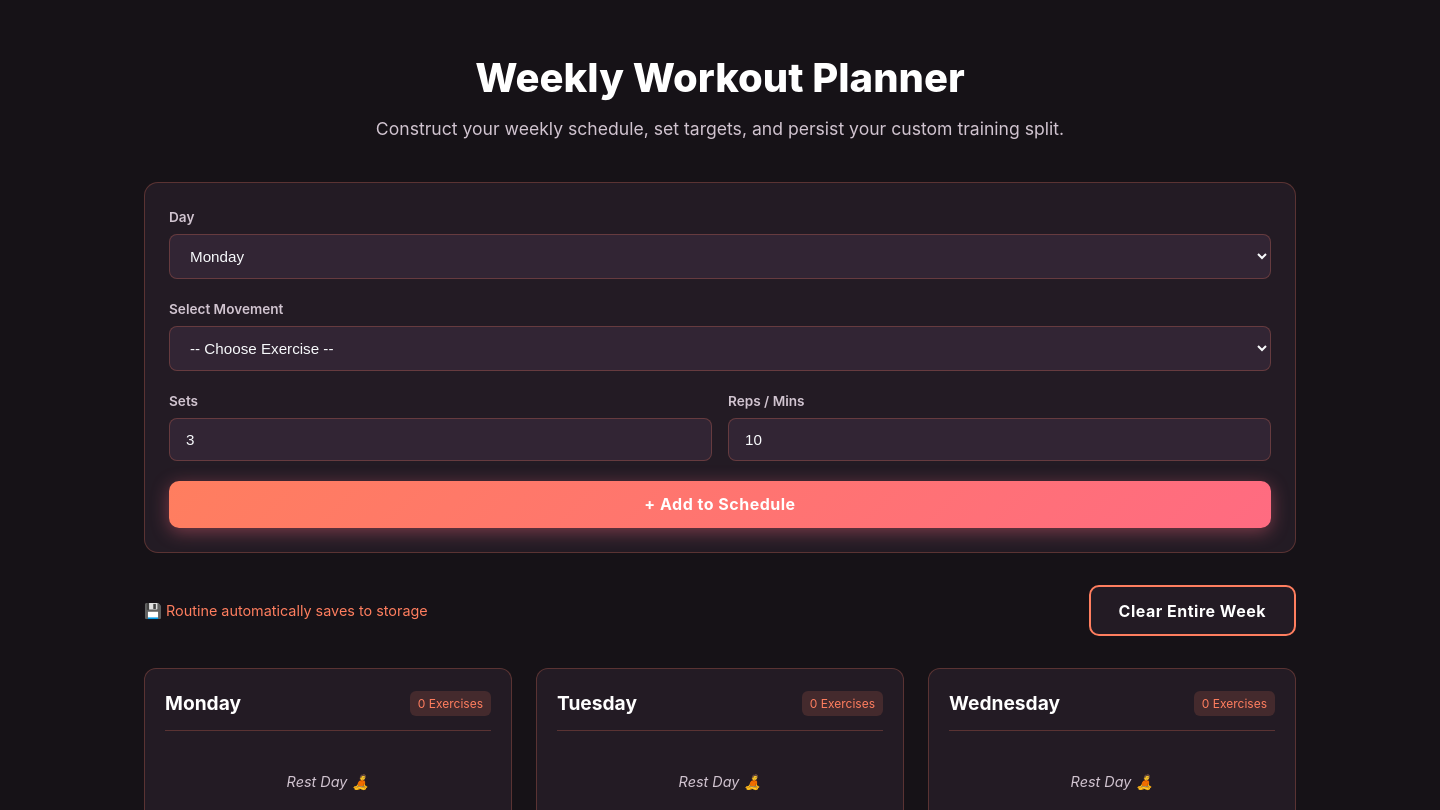
Test case: WorkoutPlanner Component › removes an exercise from a specific day
Note: Add exercise to Monday
Step 1. Select "Barbell Bench Press (strength)" in the dropdown labelled "Select Movement" → (720, 348), box [169,326,1271,371]
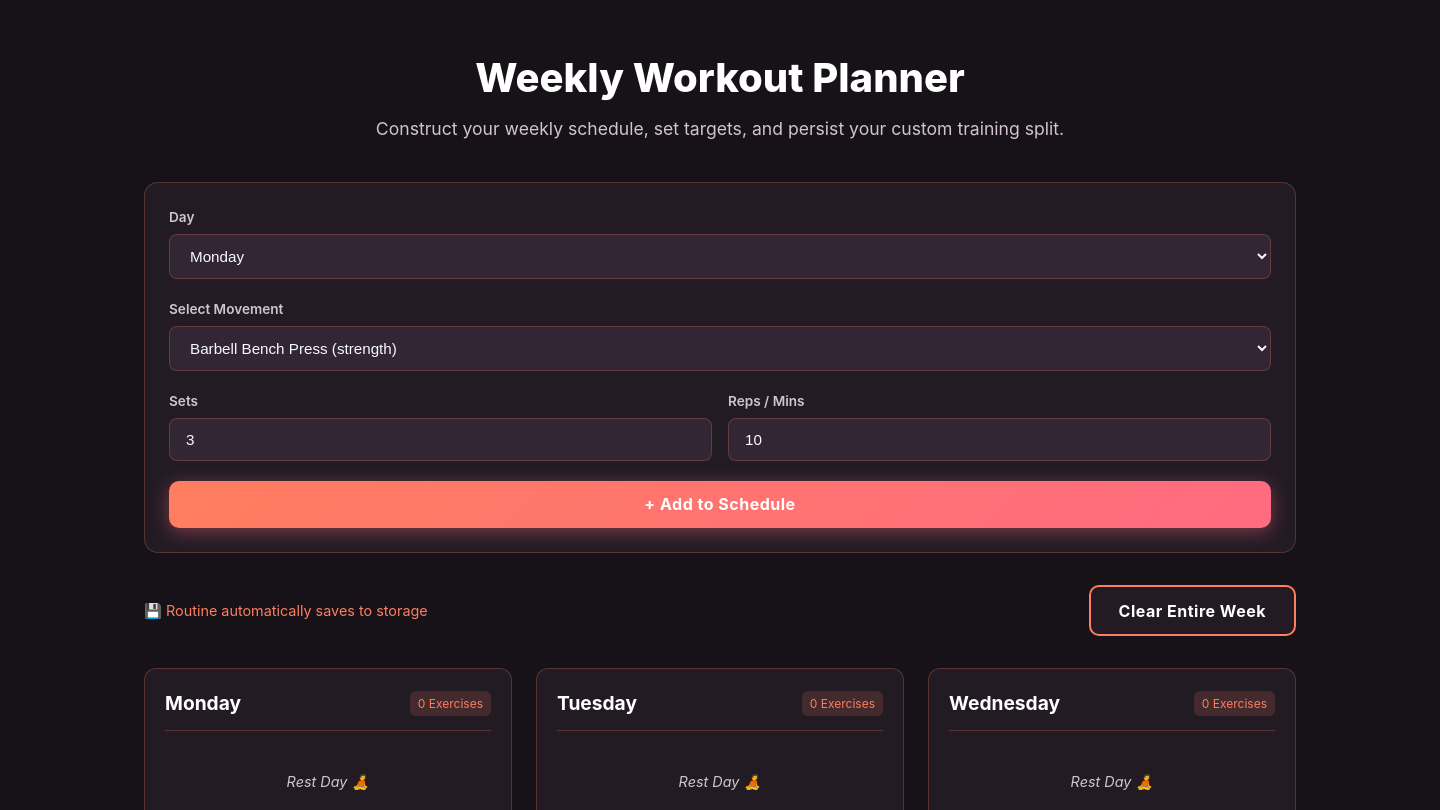
Step 2. Click the button "+ Add to Schedule" → (720, 504), box [169,481,1271,528]
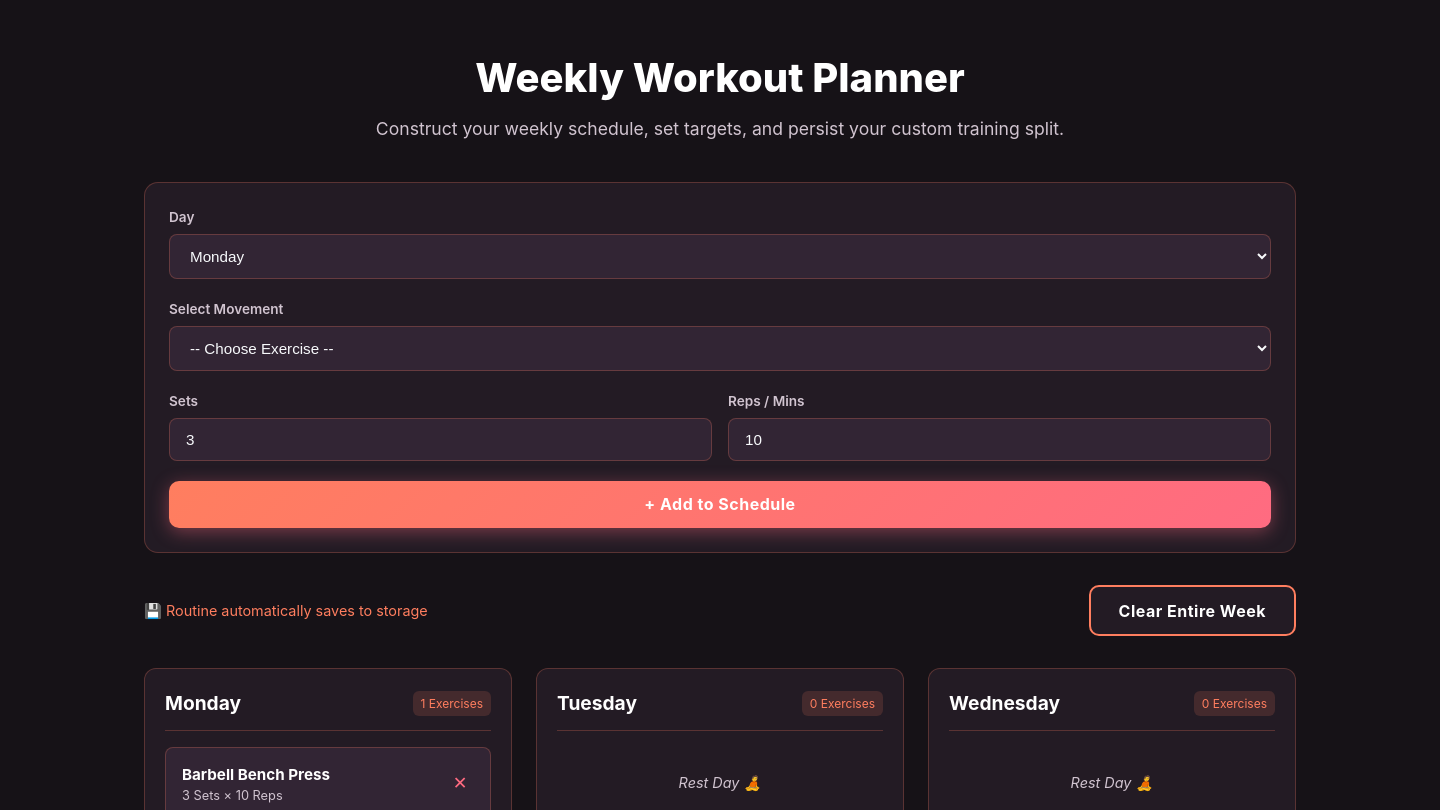
Result: the text "Barbell Bench Press" is shown at [182,764,330,784]
Note: Click remove button on the exercise item
Step 3. Click the button titled "Remove exercise" → (460, 783), box [446,768,474,798]
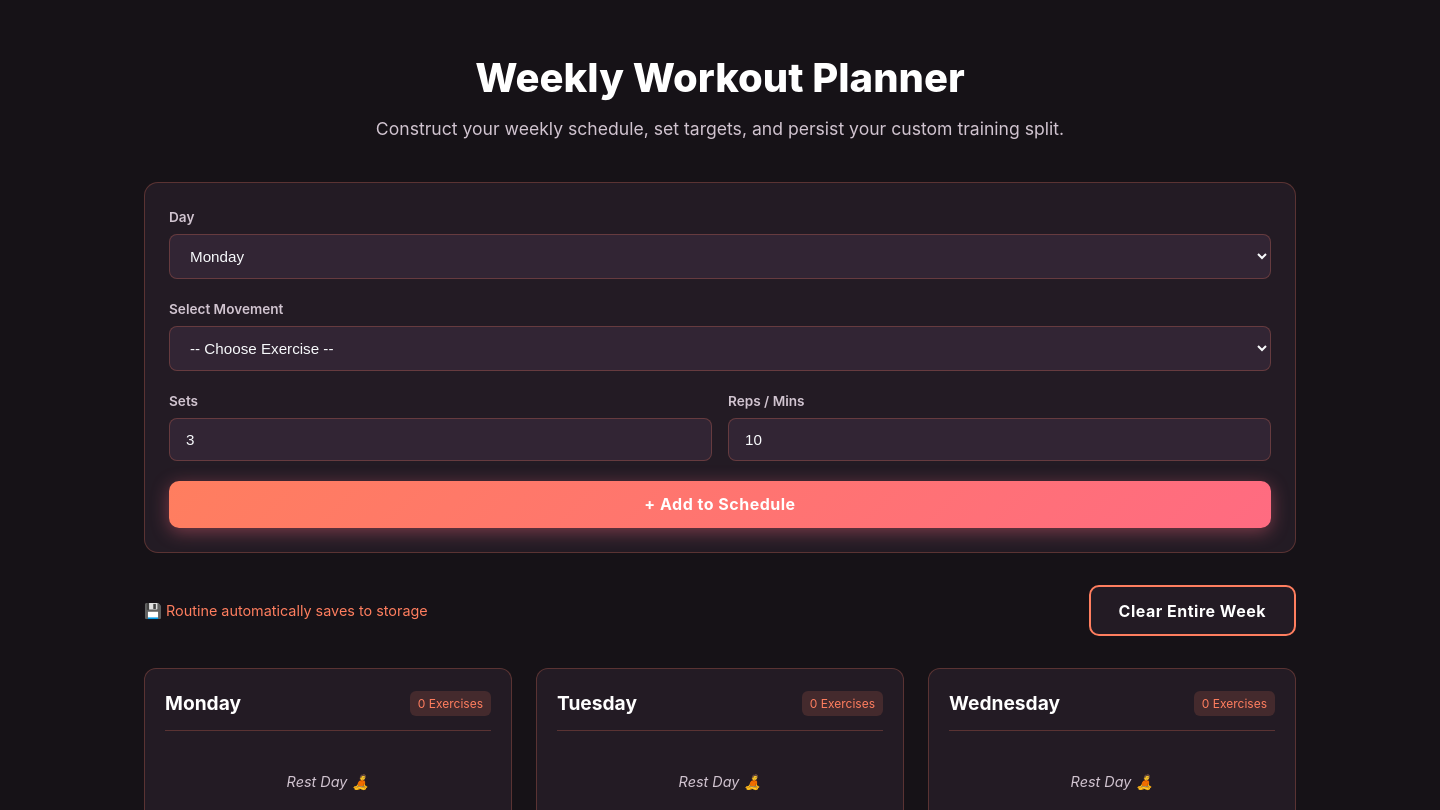
Result: the text "Barbell Bench Press" is gone
Result: the text "Rest Day 🧘" is shown 7 times
